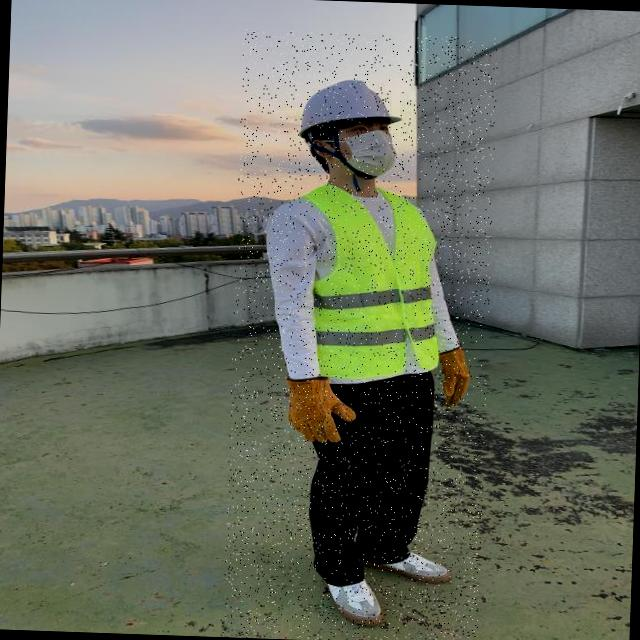boots: (322, 578, 387, 628), (357, 550, 452, 584)
gloves: (285, 374, 360, 446), (433, 343, 472, 406)
vest: (291, 183, 444, 381)
